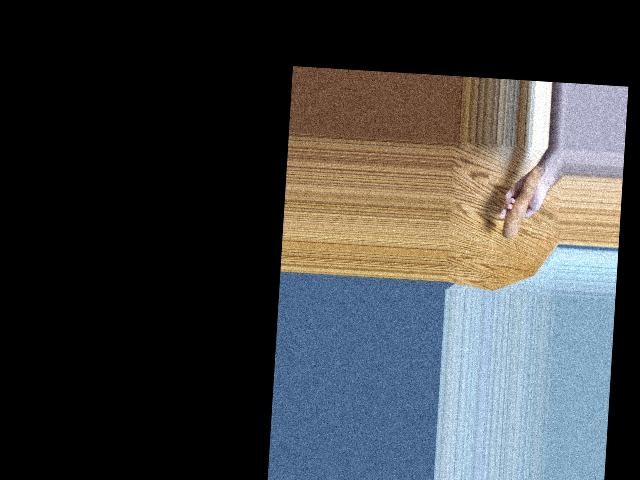sweet_potato: (507, 164, 543, 238)
